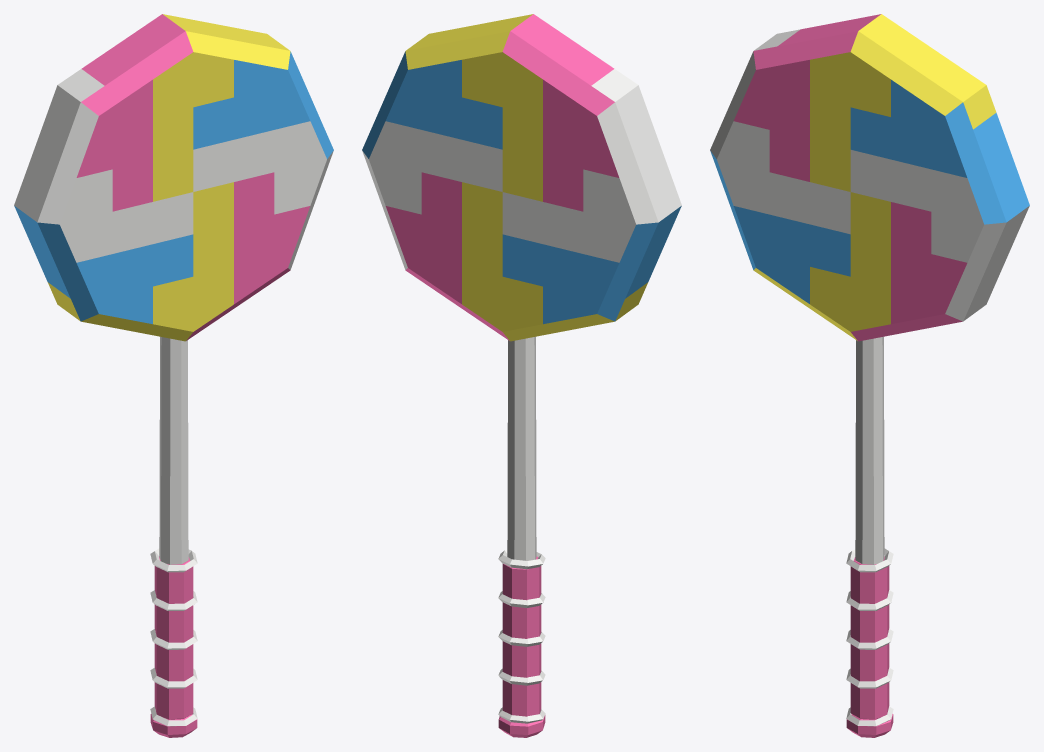
File: LollipopMace.fbx
3 views of the same model, side by side, from view 1: azimuth 30°, elevation 25°; view 2: azimuth 150°, elevation 25°; view 3: azimuth 330°, elevation 25° (orthographic).
Parts seen in each view (by area): view 1: LollipopMace; view 2: LollipopMace; view 3: LollipopMace.
Part boxes in pixels (bbox=[...]): LollipopMace: bbox=[14, 14, 333, 737]; LollipopMace: bbox=[362, 14, 681, 737]; LollipopMace: bbox=[710, 14, 1029, 737].
Bounding box in the file's own units: 2.2 × 5.02 × 0.5.
Materials: 1 (1 with a texture image).
